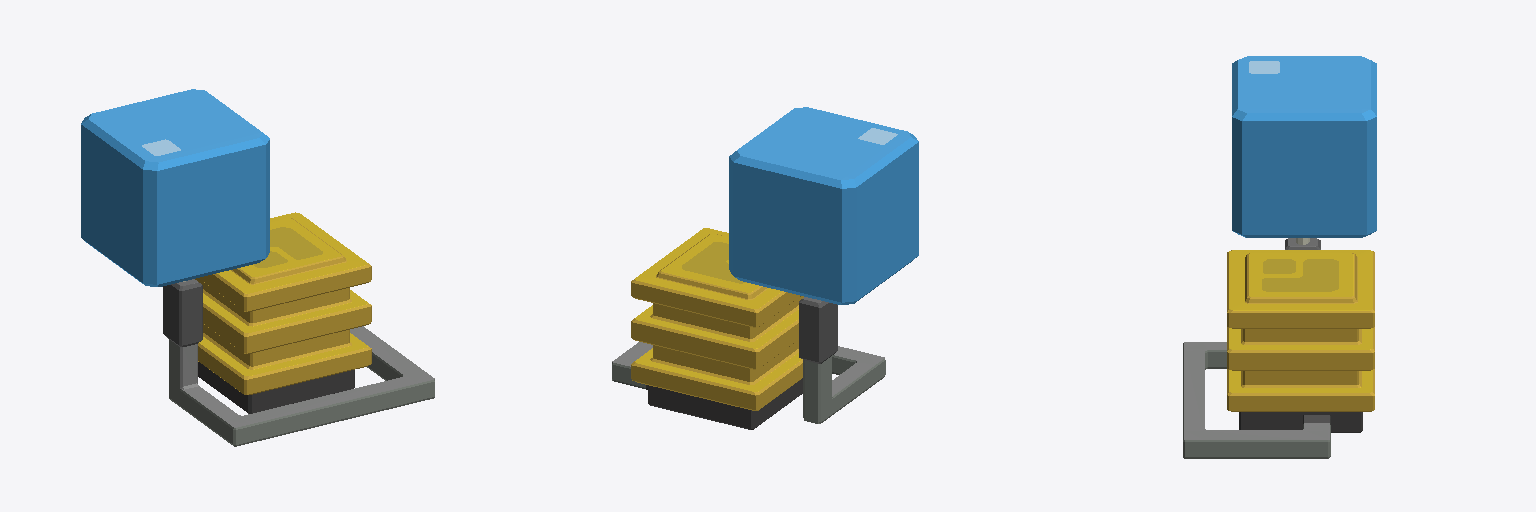
3 views of the same model, side by side, from view 1: azimuth 30°, elevation 25°; view 2: azimuth 150°, elevation 25°; view 3: azimuth 270°, elevation 25° (orthographic).
Visible parts, largest first — view 1: pvpd_PoppingBalloon; view 2: pvpd_PoppingBalloon; view 3: pvpd_PoppingBalloon.
Part boxes in pixels (x1,y1,x2,y2): pvpd_PoppingBalloon: (81,89,434,446); pvpd_PoppingBalloon: (612,107,918,429); pvpd_PoppingBalloon: (1183,56,1376,458).
Bounding box in the file's own units: 4.13 × 4.15 × 2.63.
Materials: 1 (1 with a texture image).